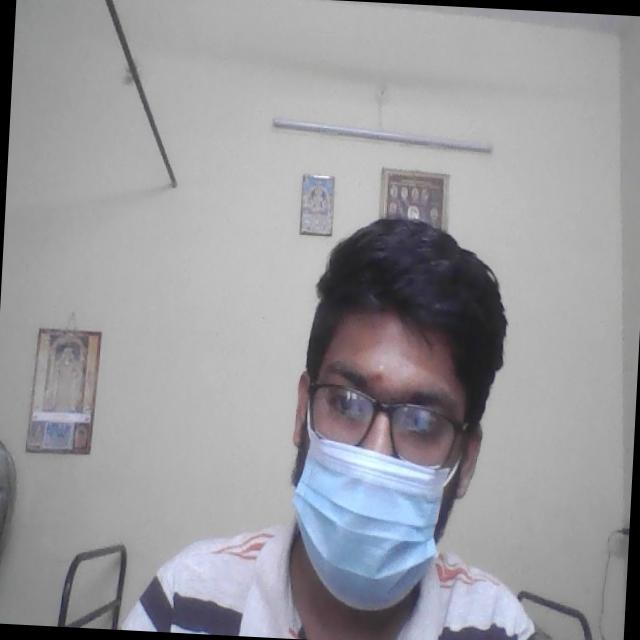Focused: (286, 309, 494, 525)
